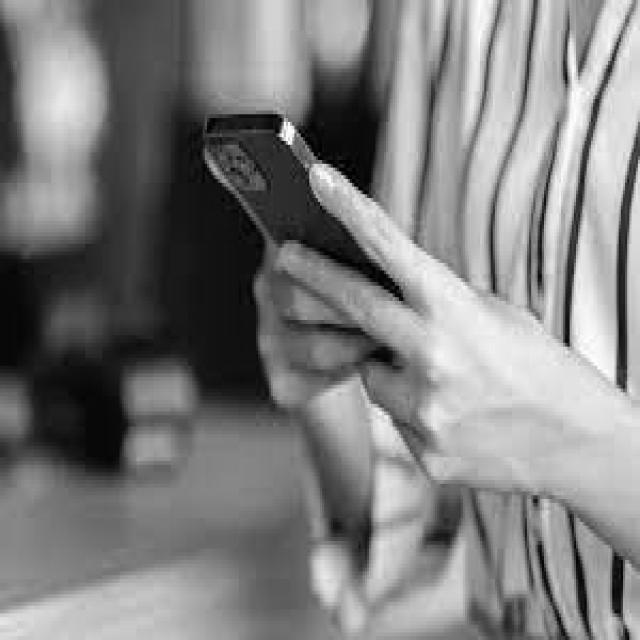No gun_phone: (203, 117, 404, 367)
